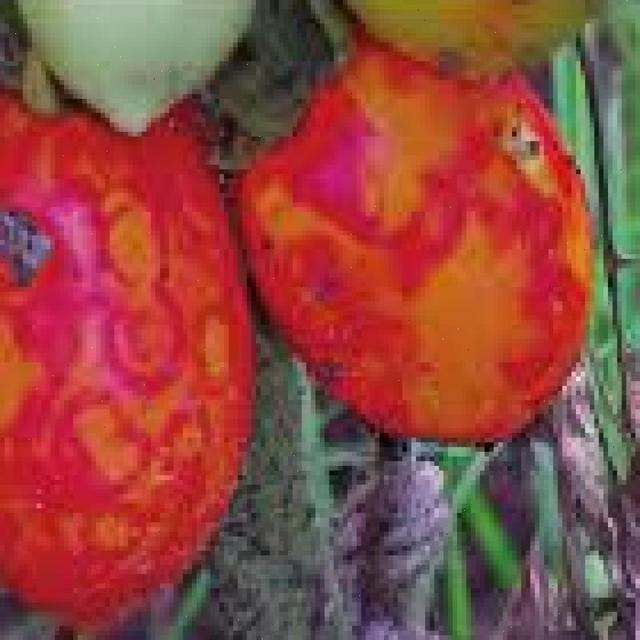Spotted wilt Virus Fruit: (85, 25, 317, 367)
